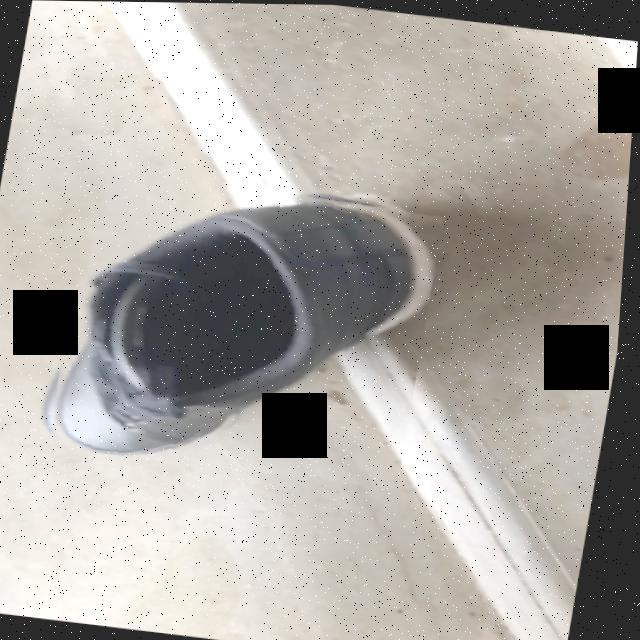shoe: (58, 199, 439, 455)
